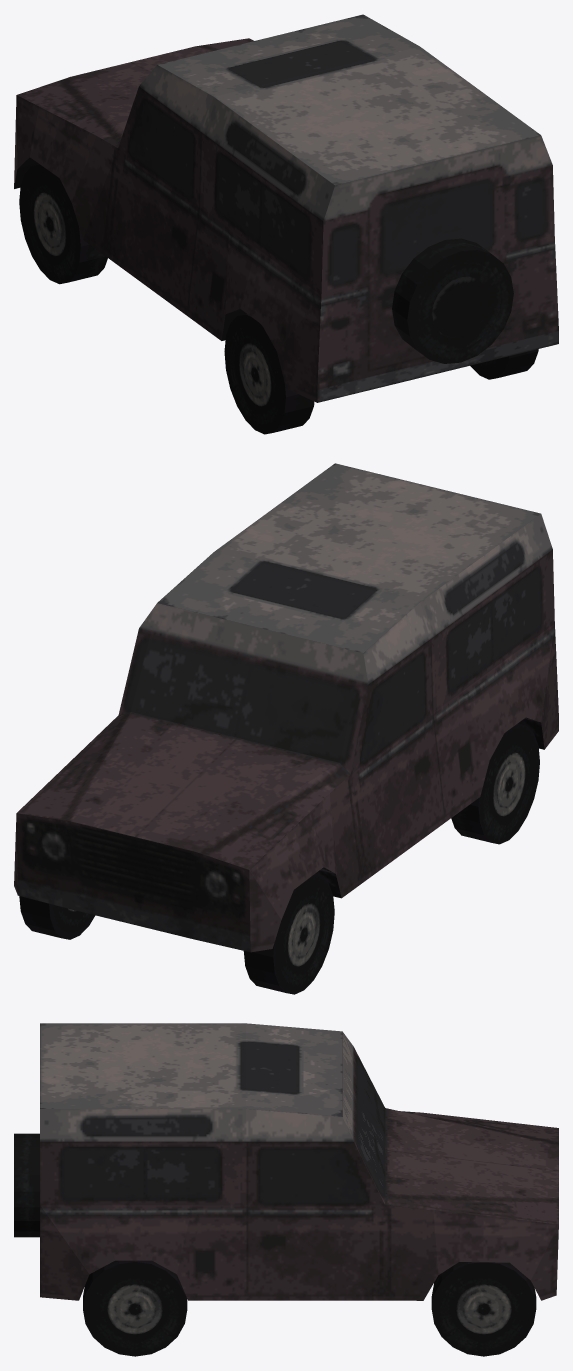
3 renders of one model, top to bottom at view 1: azimuth 30°, elevation 25°; view 2: azimuth 150°, elevation 25°; view 3: azimuth 270°, elevation 25°, orthographic. The views are drawn at different scales.
Parts seen in each view (by area): view 1: SM_EC_LR90_00; view 2: SM_EC_LR90_00; view 3: SM_EC_LR90_00.
Boxes of the visible parts, left/top/right/bottom form: SM_EC_LR90_00: left=14, top=14, right=558, bottom=434; SM_EC_LR90_00: left=14, top=463, right=558, bottom=994; SM_EC_LR90_00: left=14, top=1023, right=558, bottom=1356.
Size of the model in its own units: 1.93 by 4.07 by 1.96.
